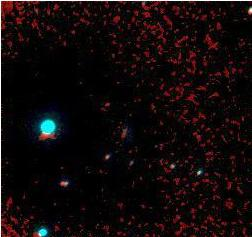star: (91, 94, 121, 124)
